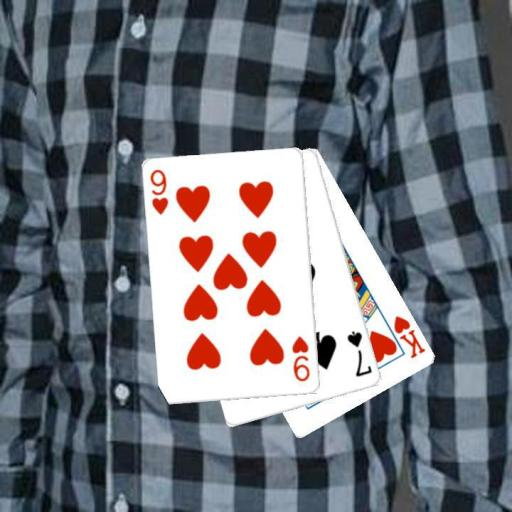7S: (344, 328, 374, 378)
9H: (290, 333, 313, 384), (147, 166, 170, 217)
KH: (391, 312, 428, 361)
